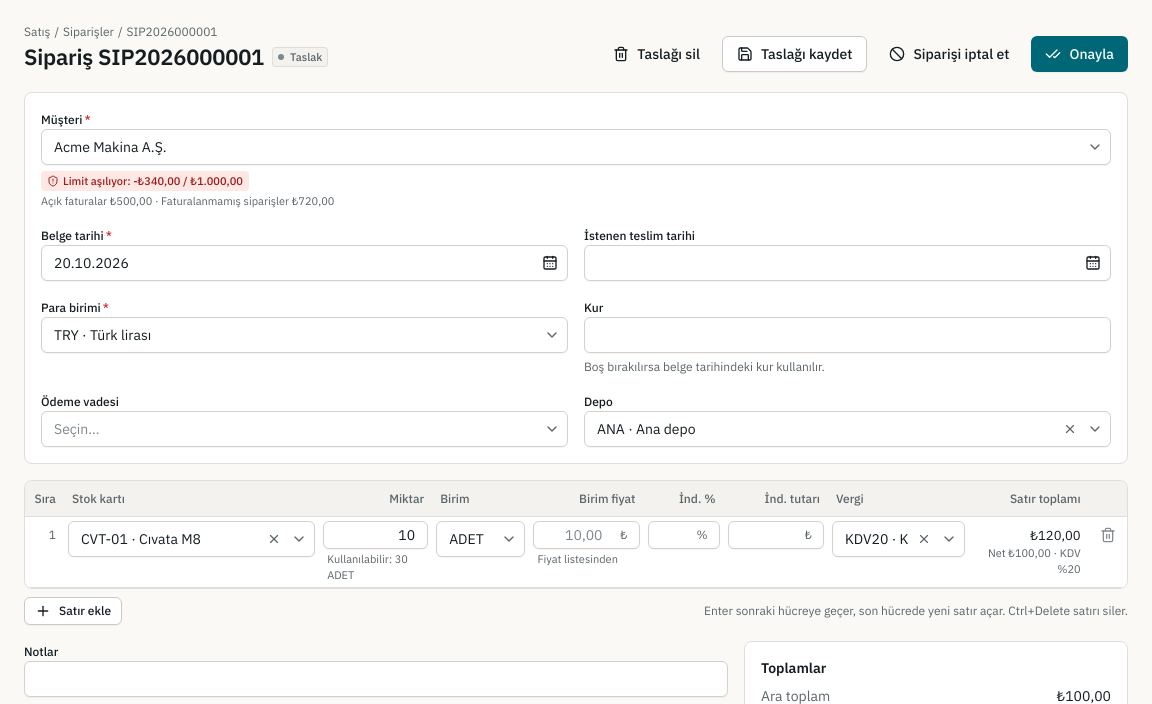
order confirmation › explains the block to users without the override permission
Expected: the table named "Satırlar" is shown, [25, 481, 1127, 588]
Click the button "Onayla": (1080, 54) [1032, 36, 1128, 72]
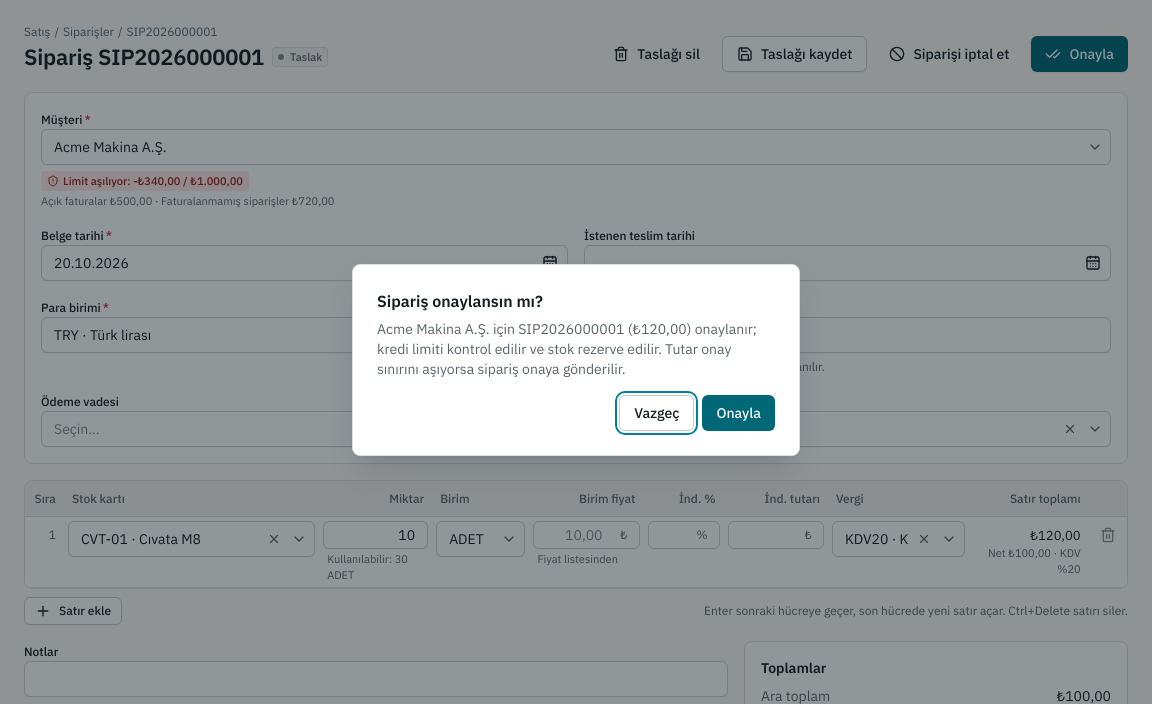
Click the button "Onayla": (739, 413) [702, 395, 775, 431]
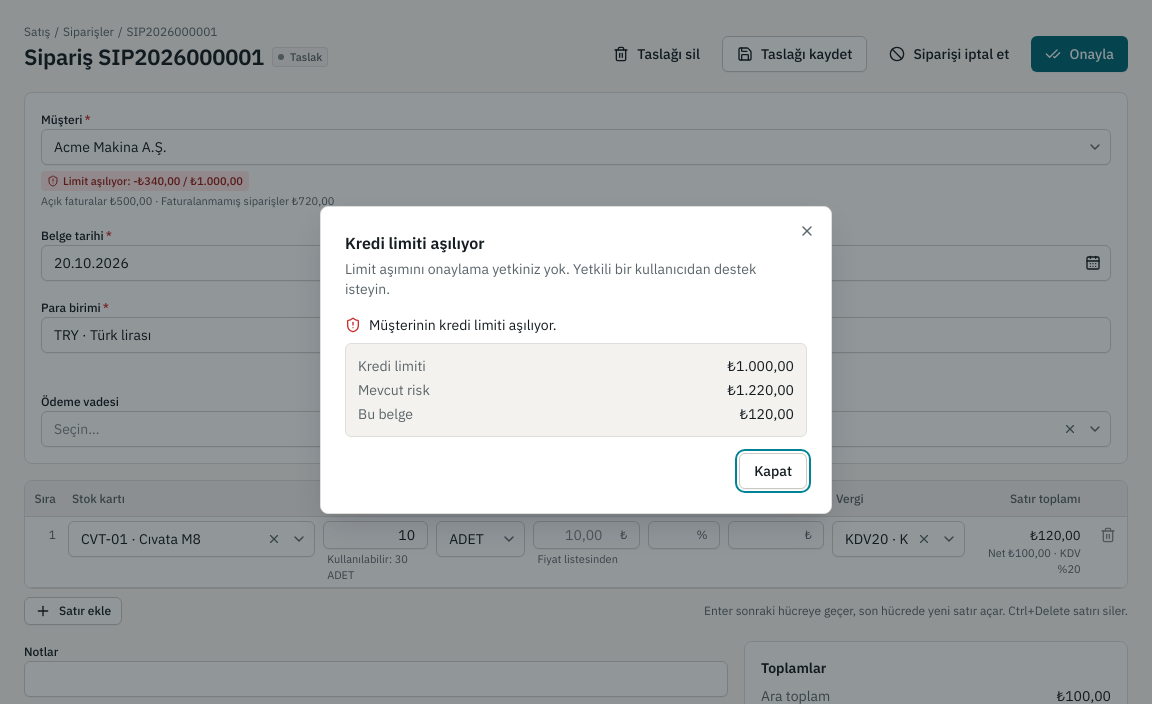
Expected: the text "Limit aşımını onaylama yetkiniz yok" is shown, [345, 260, 756, 298]
